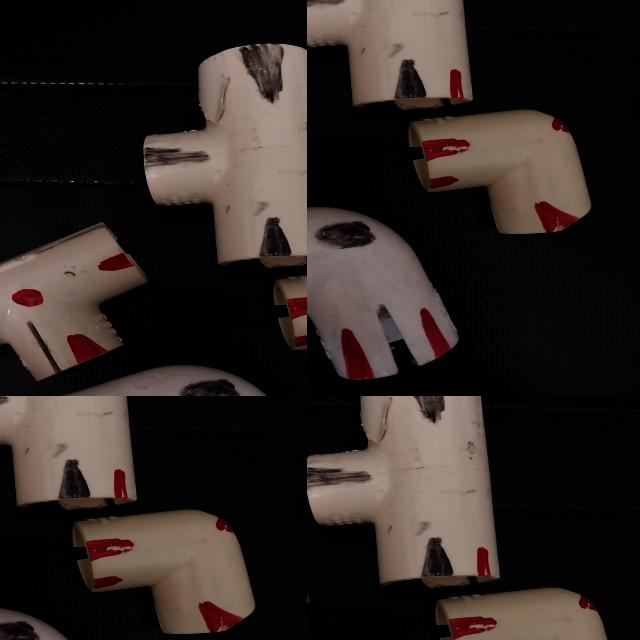Defective: (566, 588, 606, 624), (308, 466, 368, 489), (404, 396, 451, 425), (424, 537, 452, 585), (307, 192, 341, 229), (444, 622, 498, 640), (476, 548, 491, 582)
L Joint: (428, 585, 619, 640)
T Joint: (307, 396, 495, 591)
